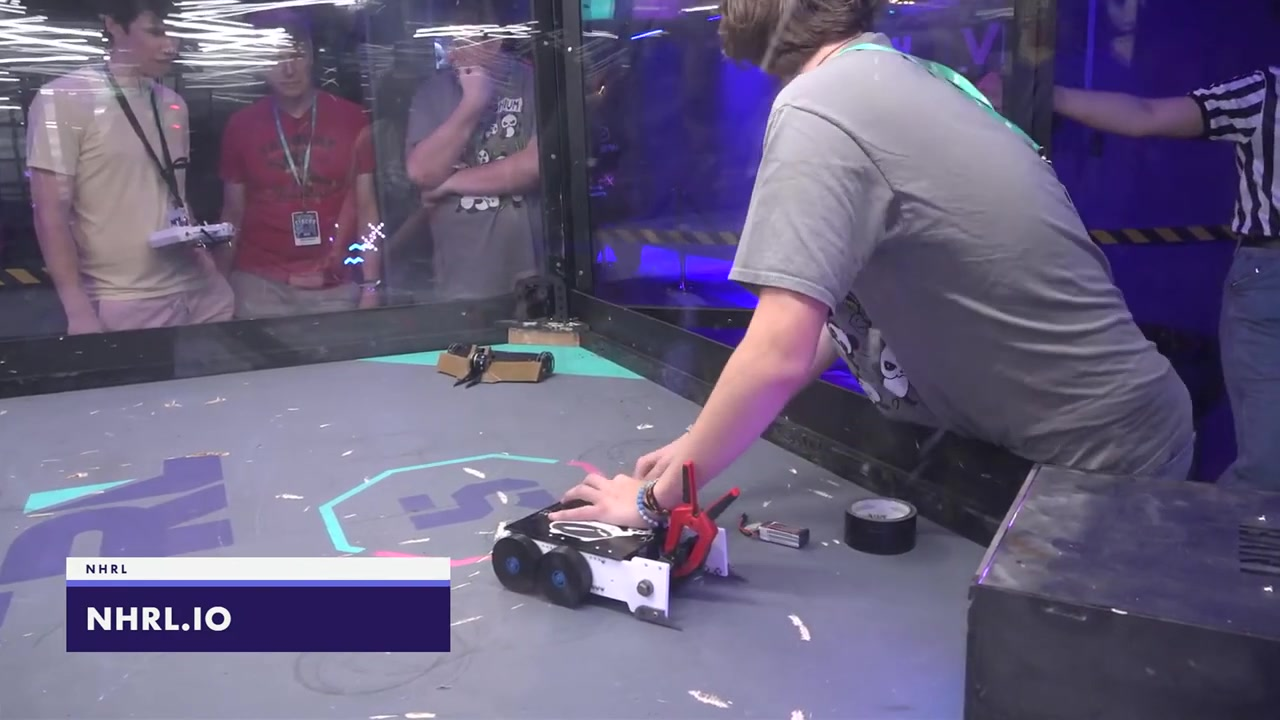combatbot: (492, 470, 734, 629), (435, 343, 557, 390)
debris: (738, 520, 812, 552)
housebot: (954, 465, 1280, 720)
